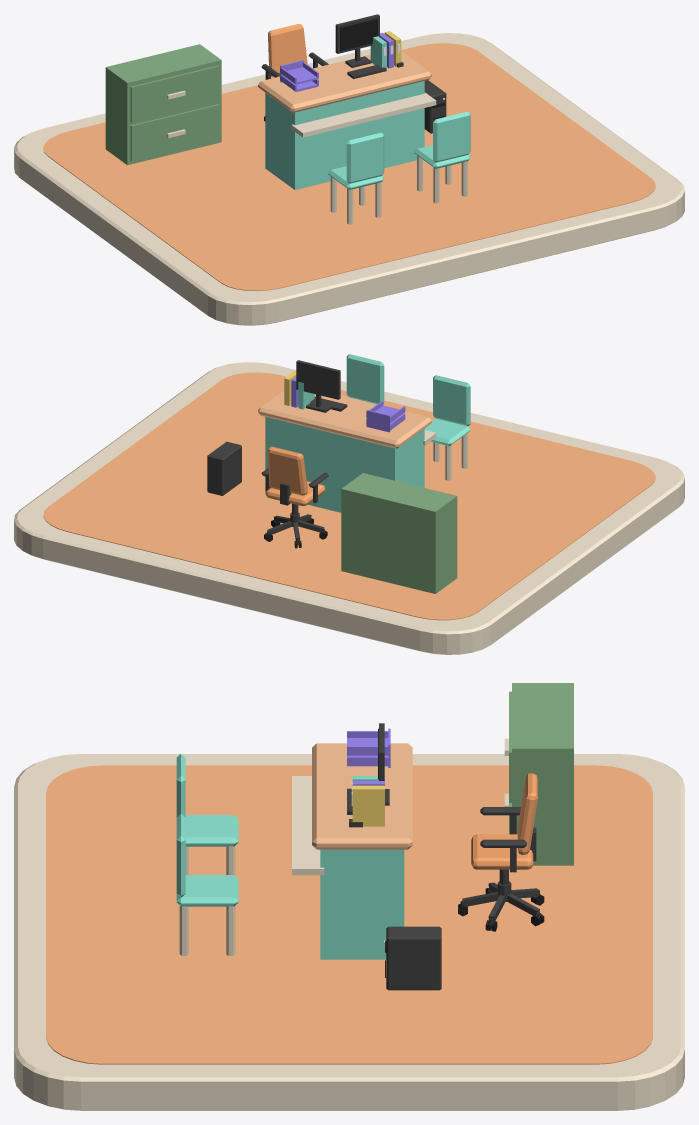
The picture shows the model from 3 angles, top to bottom: view 1: azimuth 30°, elevation 25°; view 2: azimuth 150°, elevation 25°; view 3: azimuth 270°, elevation 25°; orthographic projection. The views are drawn at different scales.
Visible parts, largest first — view 1: COM-02 Floor Surface, COM-01 Rounded Base Direct, Cabinet, Counter body, Countertop, Visitor shelf, COM-04_Chair_blender_direct, Backrest, Backrest.001, Frame, Tower, Seat (+1 smaller); view 2: COM-02 Floor Surface, COM-01 Rounded Base Direct, Cabinet, Counter body, Countertop, COM-04_Chair_blender_direct, Backrest.001, Backrest, Tower, Frame, Seat; view 3: COM-02 Floor Surface, COM-01 Rounded Base Direct, Cabinet, Counter body, Countertop, COM-04_Chair_blender_direct, Tower, Visitor shelf, Seat.001, Seat, File.002, Backrest.001.
Part boxes in pixels (x1=…): COM-02 Floor Surface: x1=43, y1=43, x2=655, y2=291; COM-01 Rounded Base Direct: x1=14, y1=33, x2=684, y2=325; Cabinet: x1=105, y1=44, x2=221, y2=165; Counter body: x1=265, y1=81, x2=424, y2=189; Countertop: x1=258, y1=51, x2=431, y2=112; Visitor shelf: x1=291, y1=92, x2=436, y2=137; COM-04_Chair_blender_direct: x1=261, y1=24, x2=328, y2=121; Backrest: x1=346, y1=132, x2=384, y2=183; Backrest.001: x1=433, y1=111, x2=470, y2=162; Frame: x1=335, y1=14, x2=379, y2=67; Tower: x1=424, y1=80, x2=446, y2=133; Seat: x1=328, y1=166, x2=384, y2=189; COM-02 Floor Surface: x1=43, y1=372, x2=655, y2=620; COM-01 Rounded Base Direct: x1=14, y1=362, x2=684, y2=654; Cabinet: x1=341, y1=473, x2=457, y2=593; Counter body: x1=265, y1=417, x2=424, y2=512; Countertop: x1=258, y1=390, x2=431, y2=448; COM-04_Chair_blender_direct: x1=261, y1=446, x2=328, y2=548; Backrest.001: x1=346, y1=354, x2=384, y2=403; Backrest: x1=433, y1=375, x2=470, y2=426; Tower: x1=207, y1=441, x2=241, y2=495; Frame: x1=296, y1=360, x2=340, y2=412; Seat: x1=424, y1=418, x2=470, y2=446; COM-02 Floor Surface: x1=46, y1=765, x2=652, y2=1064; COM-01 Rounded Base Direct: x1=14, y1=754, x2=684, y2=1110; Cabinet: x1=504, y1=683, x2=573, y2=865; Counter body: x1=320, y1=849, x2=404, y2=959; Countertop: x1=312, y1=743, x2=412, y2=849; COM-04_Chair_blender_direct: x1=458, y1=773, x2=544, y2=931; Tower: x1=386, y1=926, x2=441, y2=990; Visitor shelf: x1=292, y1=776, x2=324, y2=875; Seat.001: x1=176, y1=875, x2=238, y2=906; Seat: x1=185, y1=815, x2=238, y2=846; File.002: x1=352, y1=785, x2=384, y2=826; Backrest.001: x1=176, y1=814, x2=185, y2=897.
Bounding box in the file's own units: 6 × 1.92 × 5.2.
Materials: 1 (1 with a texture image).
